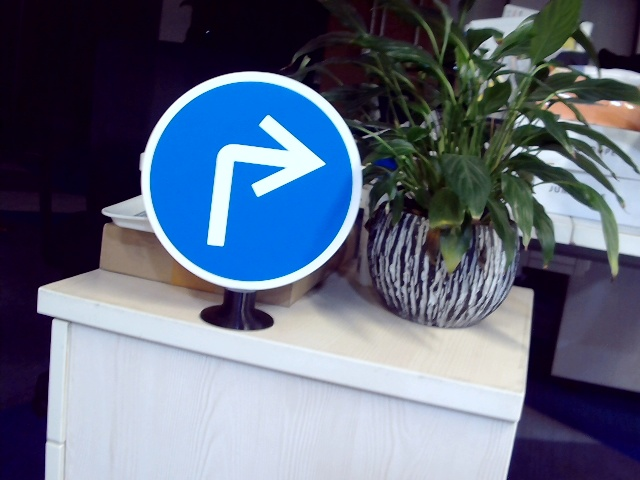turn_right: (205, 115, 326, 256)
